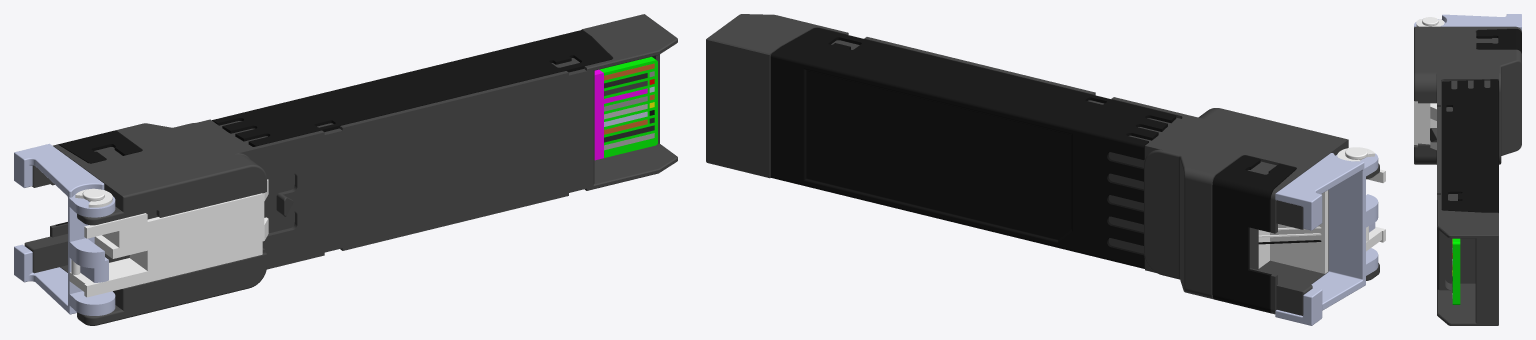
File: copper_module.obj
3 views of the same model, side by side, from view 1: azimuth 30°, elevation 25°; view 2: azimuth 150°, elevation 25°; view 3: azimuth 270°, elevation 25° (orthographic). The views are drawn at different scales.
Size of the model in its own units: 0.068 by 0.013 by 0.014.
